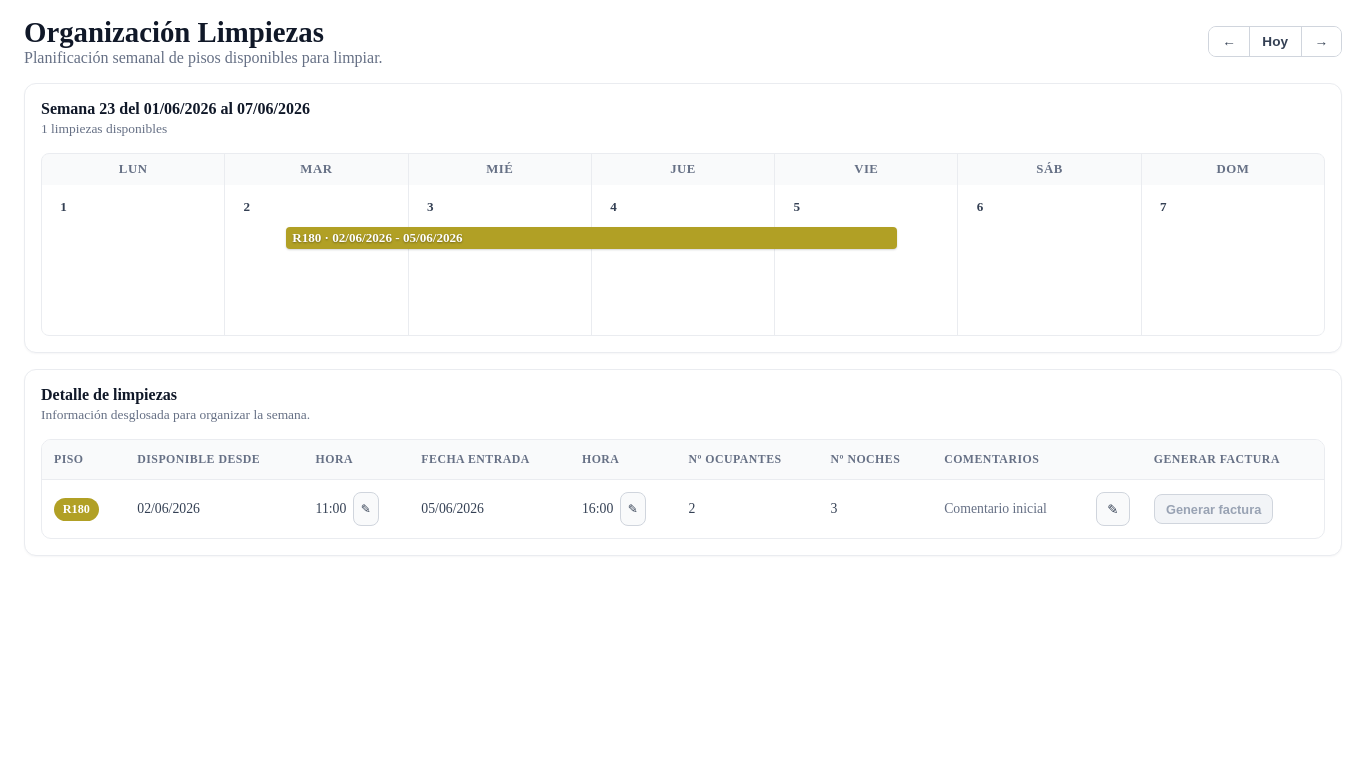
CleaningOrganizationComponent › borra comentarios enviando string vacío y vuelve a mostrar Sin comentarios
Click the button with class "edit-btn" at (1113, 509), box [1096,492,1130,526]
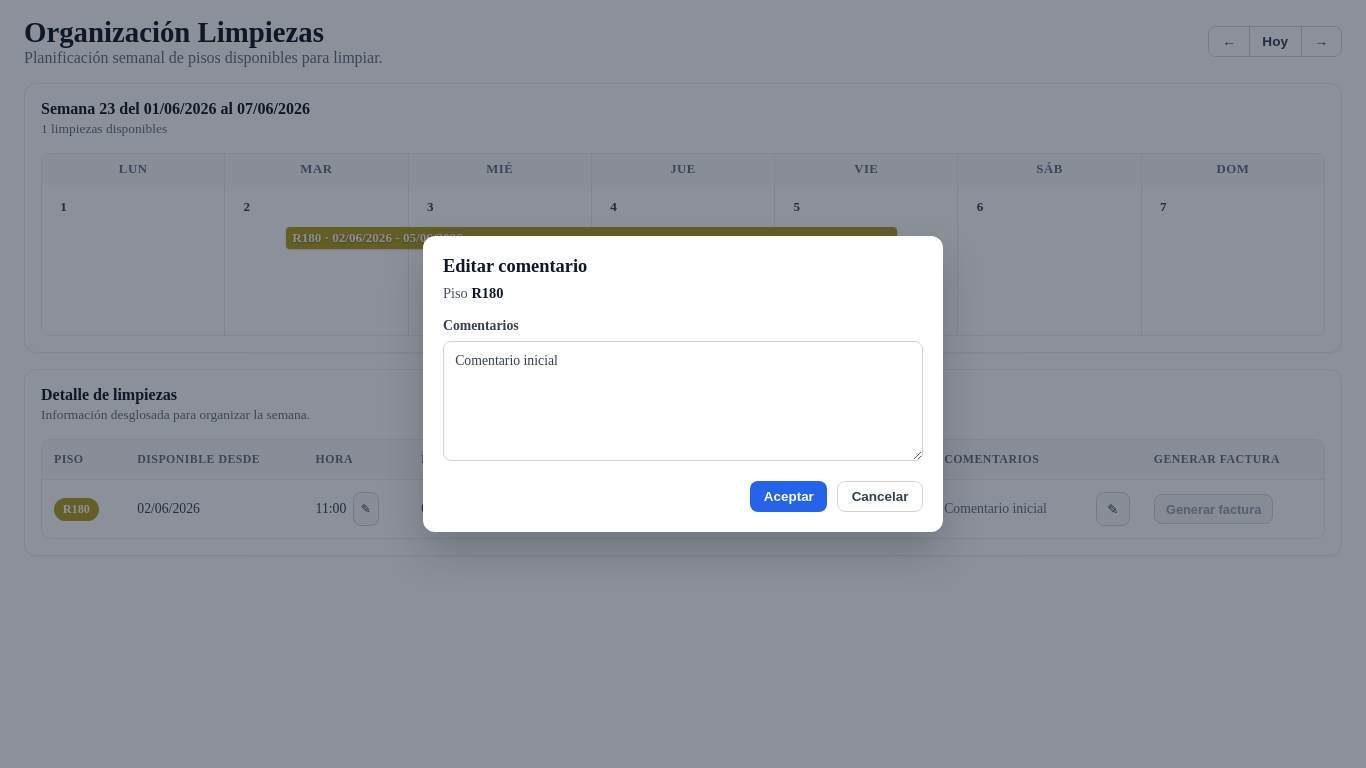
Clear the text box labelled "Comentarios" at (683, 401), box [443,341,923,461]
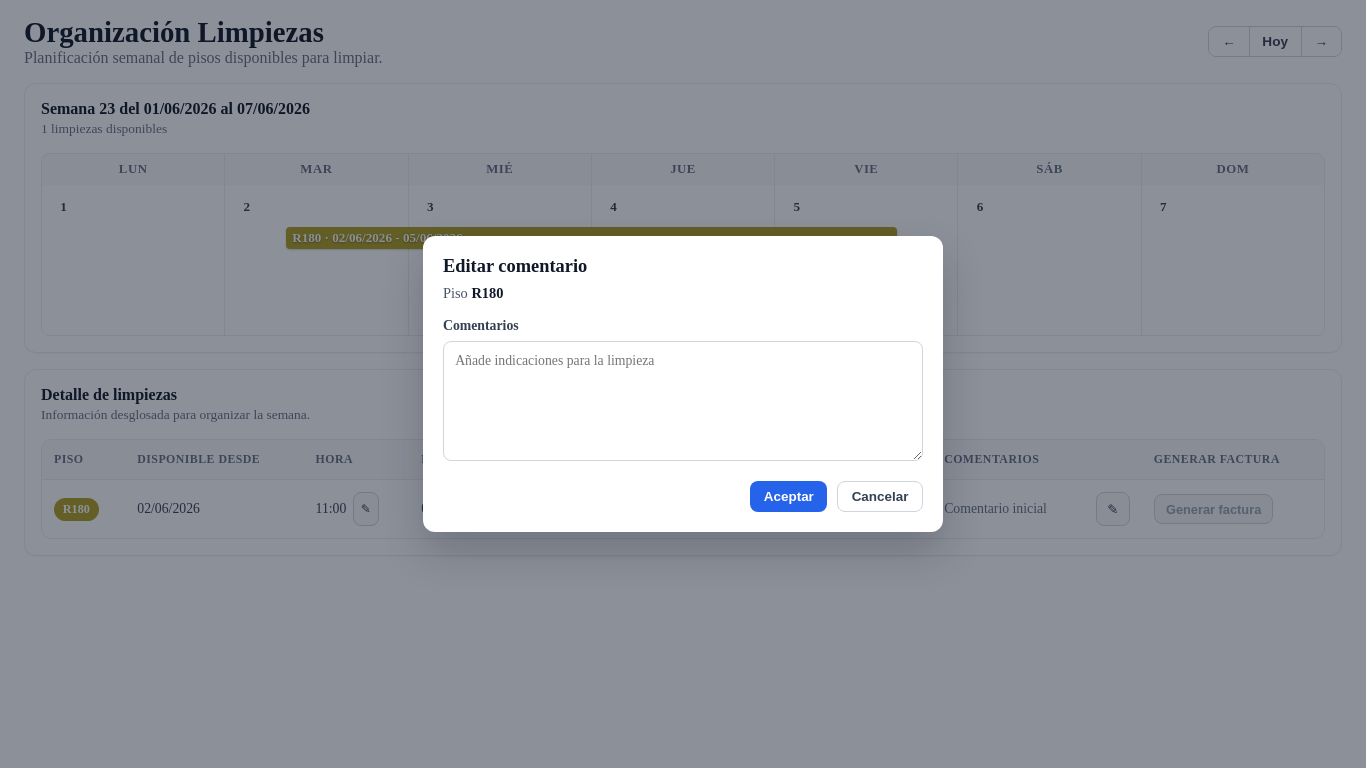
Click the button "Aceptar" at (789, 497), box [750,481,827,512]
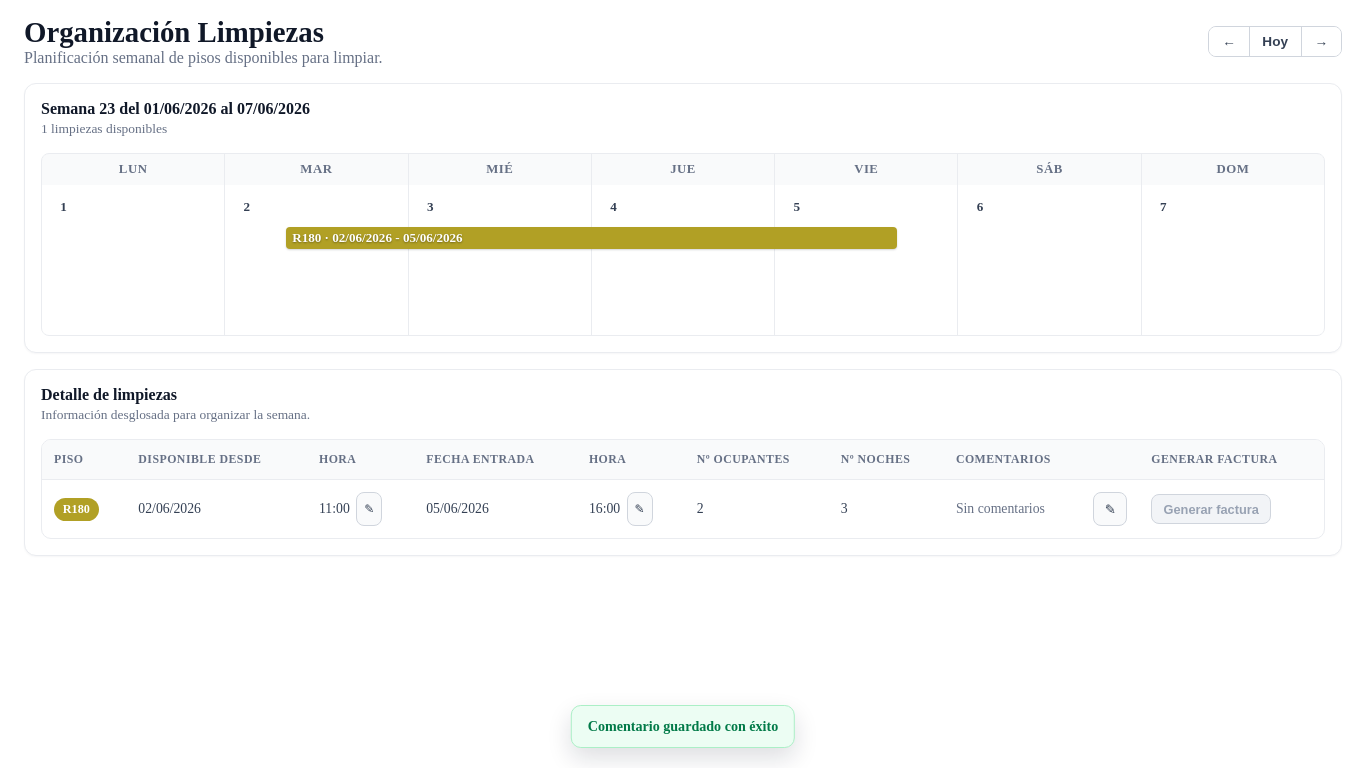
expect the text "Sin comentarios" is shown: met, box [956,501,1045,517]
